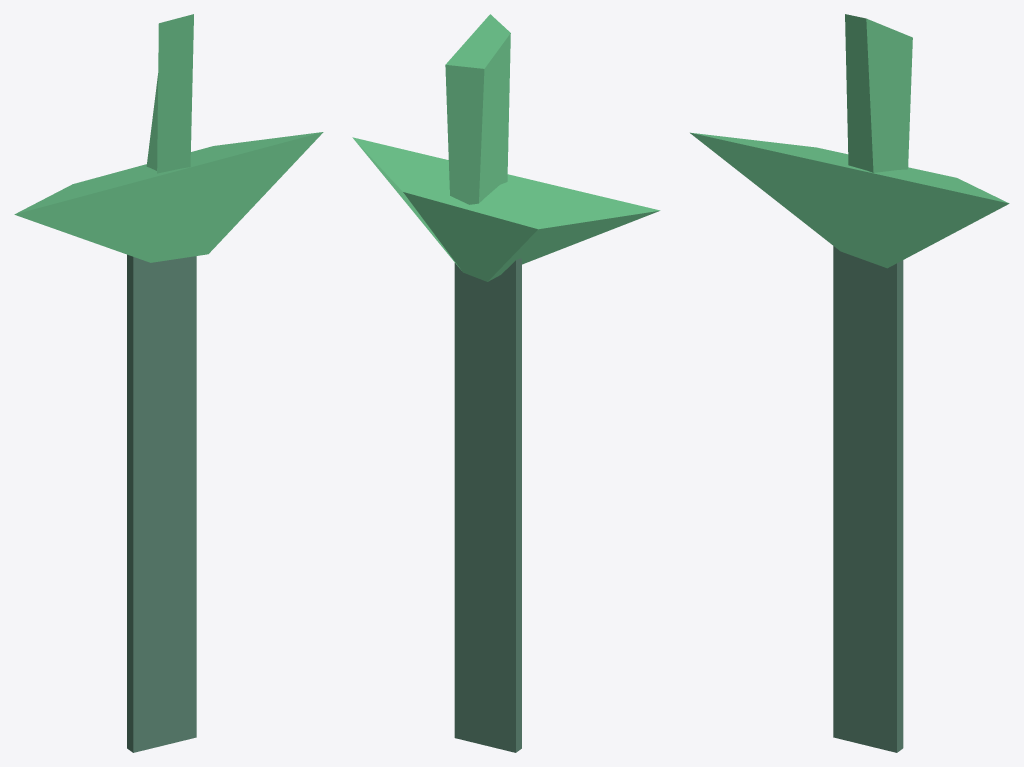
Rendered from sword.glb.
3 renders of one model, left to right at view 1: azimuth 30°, elevation 25°; view 2: azimuth 150°, elevation 25°; view 3: azimuth 330°, elevation 25°, orthographic. The views are drawn at different scales.
Visible parts, largest first — view 1: Cube, Cube.002, Cube.001; view 2: Cube, Cube.002, Cube.001; view 3: Cube, Cube.002, Cube.001.
Boxes of the visible parts, x1,y1,x2,y2 form: Cube: (127,254,196,752); Cube.002: (14,132,323,262); Cube.001: (146,14,193,173); Cube: (454,258,521,752); Cube.002: (352,137,660,281); Cube.001: (445,14,510,204); Cube: (833,246,903,752); Cube.002: (690,132,1009,268); Cube.001: (845,14,912,172).
Bounding box in the file's own units: 3.49 × 7.81 × 0.6879.
